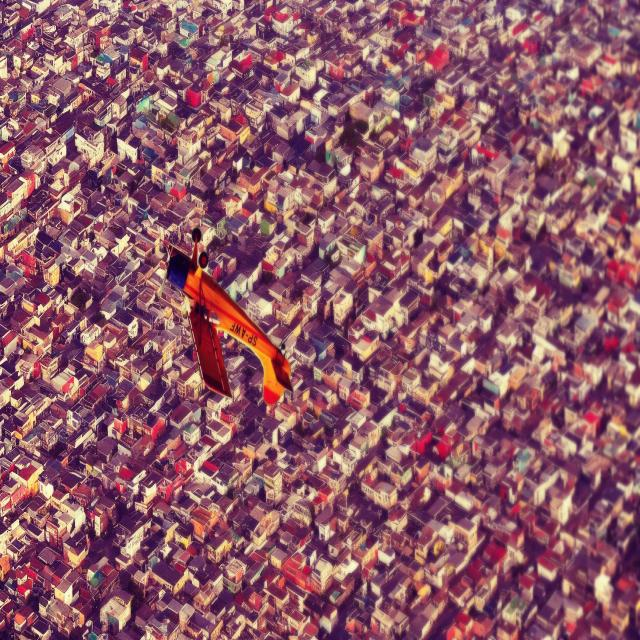airplane: (165, 232, 293, 410)
